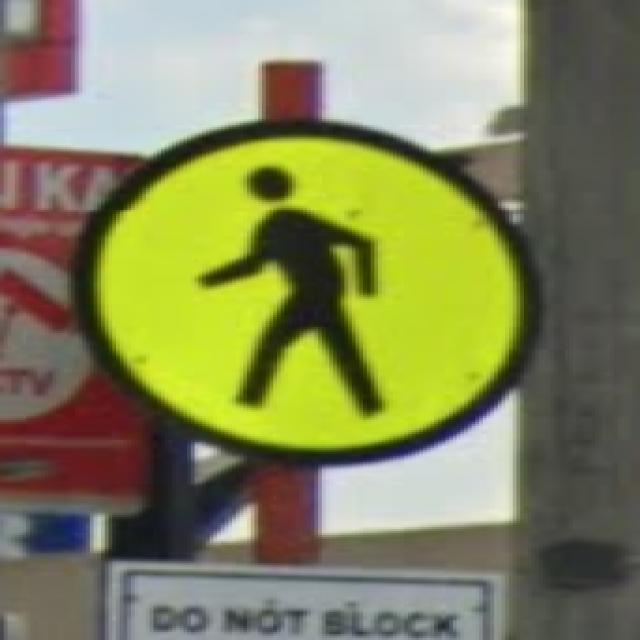pedestrian crossing: (71, 121, 535, 462)
